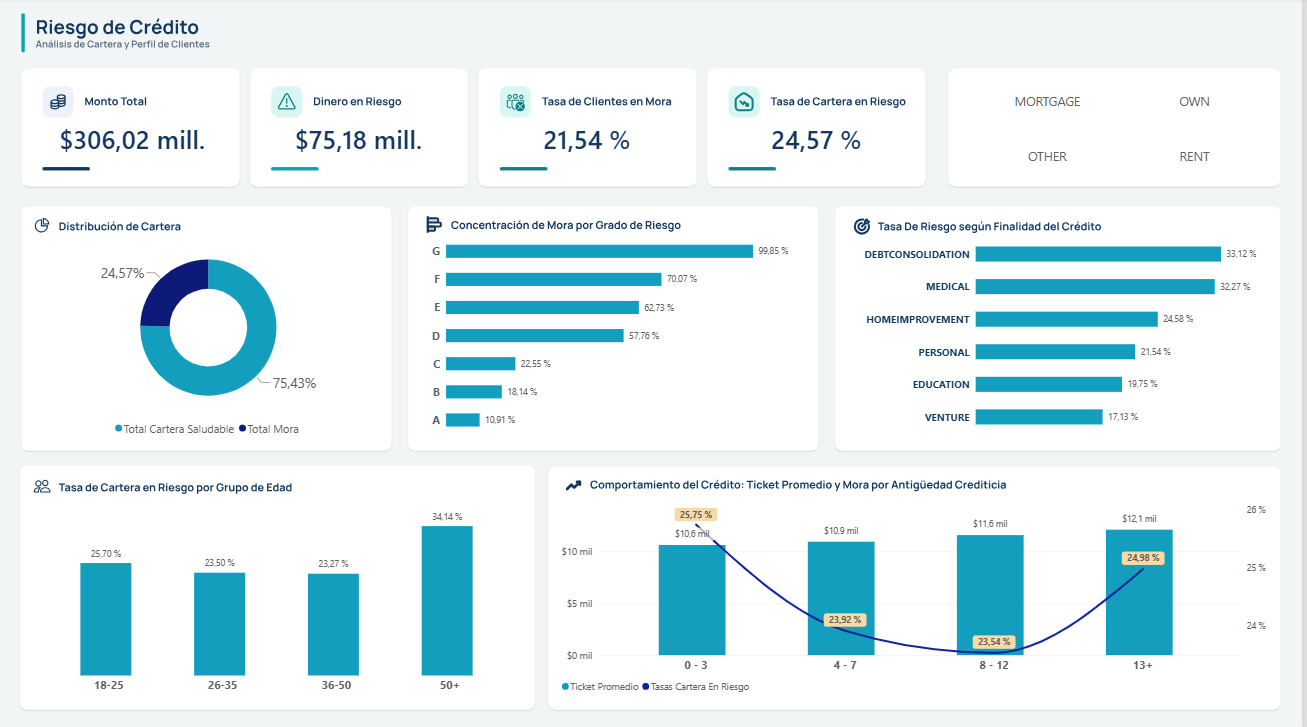

The page's visual inventory and layout, read from the dashboard file:
{"tool":"powerbi","page":{"name":"Página 1","canvas":[1920,1080],"ordinal":0},"visuals":[{"type":"clusteredBarChart","fields":{"Category":["public credit_risk.loan_grade"],"Y":["_Medidas.%_tasa_cartera_riesgo"]},"box":[620.9,325.8,557.9,340.2],"z":0},{"type":"card","fields":{"Values":["Sum(public credit_risk.loan_amnt)"]},"box":[36,156.6,318.6,106.2],"z":1000},{"type":"card","fields":{"Values":["_Medidas.total_mora"]},"box":[372.6,156.6,315,106.2],"z":2000},{"type":"card","fields":{"Values":["_Medidas.%_clientes_morosos"]},"box":[705.5,156.6,322.2,106.2],"z":3000},{"type":"card","fields":{"Values":["_Medidas.%_mora"]},"box":[1042.1,156.6,324,106.2],"z":4000},{"type":"columnChart","fields":{"Category":["public credit_risk.age_group"],"Y":["_Medidas.%_tasa_cartera_riesgo"]},"box":[36,730.7,752.3,315],"z":5000},{"type":"clusteredBarChart","title":"Tasa De Riesgo Por Propósito de Préstamo","fields":{"Category":["public credit_risk.loan_intent"],"Y":["_Medidas.%_tasa_cartera_riesgo"]},"box":[1256.2,325.8,610.1,340.2],"z":6000},{"type":"donutChart","fields":{"Y":["_Medidas.total_cartera_saludable","_Medidas.total_mora"]},"box":[61.2,340.2,494.9,325.8],"z":7000},{"type":"slicer","fields":{"Values":["public credit_risk.person_home_ownership"]},"box":[1414.6,111.6,471.2,162],"z":8000},{"type":"lineStackedColumnComboChart","fields":{"Category":["public credit_risk.rango_historial_credito"],"Y":["_Medidas.monto_promedio_mora"],"Y2":["_Medidas.%_tasa_cartera_riesgo"]},"box":[811.7,730.7,1072.7,315],"z":9000}]}

Visuals, with their boxes in screenshot pixels (x1, y1, x2, y2), scaled from the page's 1920x1080 canvas onto the 1307x727 screenshot:
clusteredBarChart - public credit_risk.loan_grade x _Medidas.%_tasa_cartera_riesgo: left=423, top=219, right=802, bottom=448
card - Sum(public credit_risk.loan_amnt): left=25, top=105, right=241, bottom=177
card - _Medidas.total_mora: left=254, top=105, right=468, bottom=177
card - _Medidas.%_clientes_morosos: left=480, top=105, right=700, bottom=177
card - _Medidas.%_mora: left=709, top=105, right=930, bottom=177
columnChart - public credit_risk.age_group x _Medidas.%_tasa_cartera_riesgo: left=25, top=492, right=537, bottom=704
"Tasa De Riesgo Por Propósito de Préstamo" clusteredBarChart: left=855, top=219, right=1270, bottom=448
donutChart - _Medidas.total_cartera_saludable x _Medidas.total_mora: left=42, top=229, right=379, bottom=448
slicer - public credit_risk.person_home_ownership: left=963, top=75, right=1284, bottom=184
lineStackedColumnComboChart - public credit_risk.rango_historial_credito x _Medidas.monto_promedio_mora: left=553, top=492, right=1283, bottom=704
